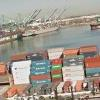Boat: (4, 20, 64, 39)
